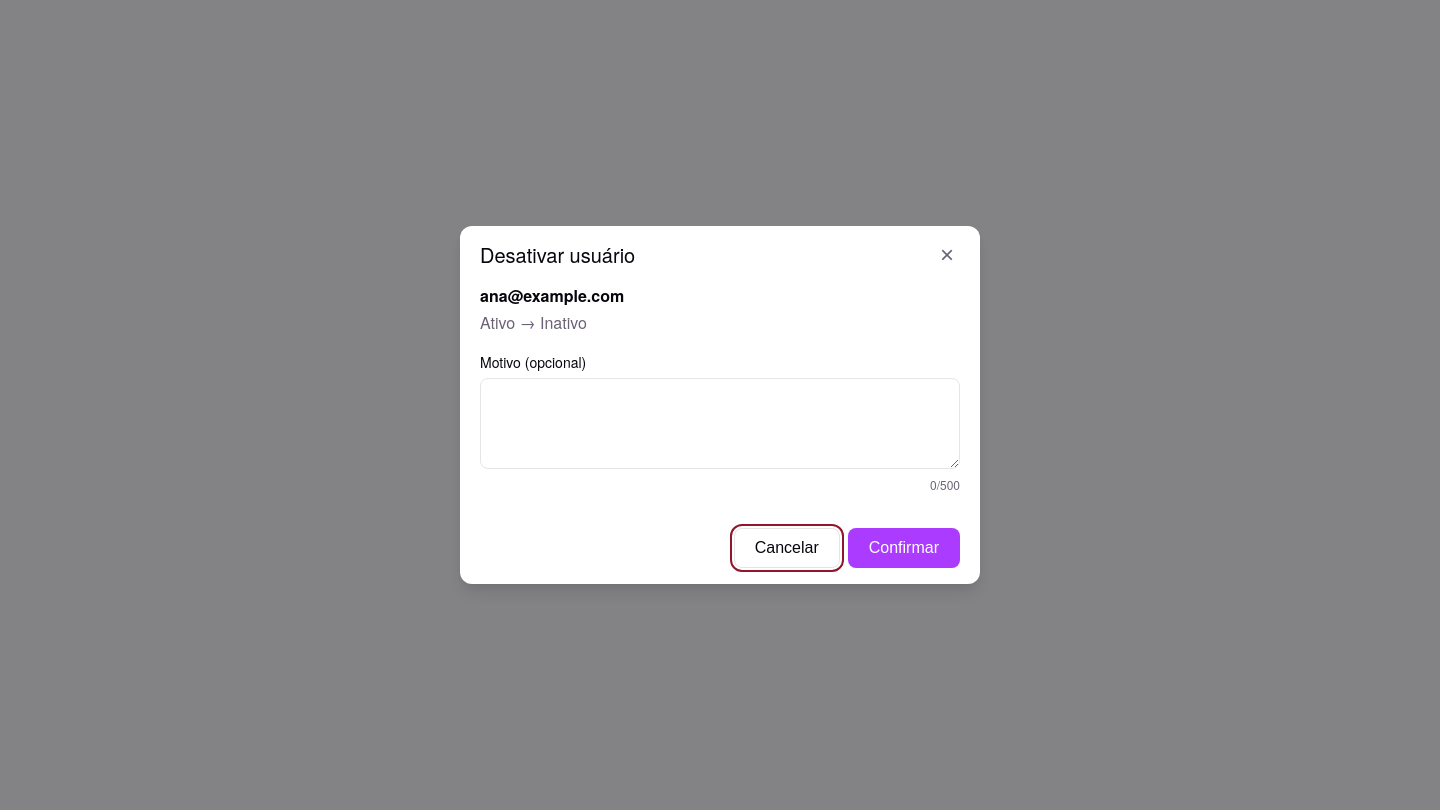
Test: ToggleActiveDialog › shows describeAdminUsersError message without action for last_superadmin
Click the button "Confirmar" at (904, 548), box [848,528,960,568]
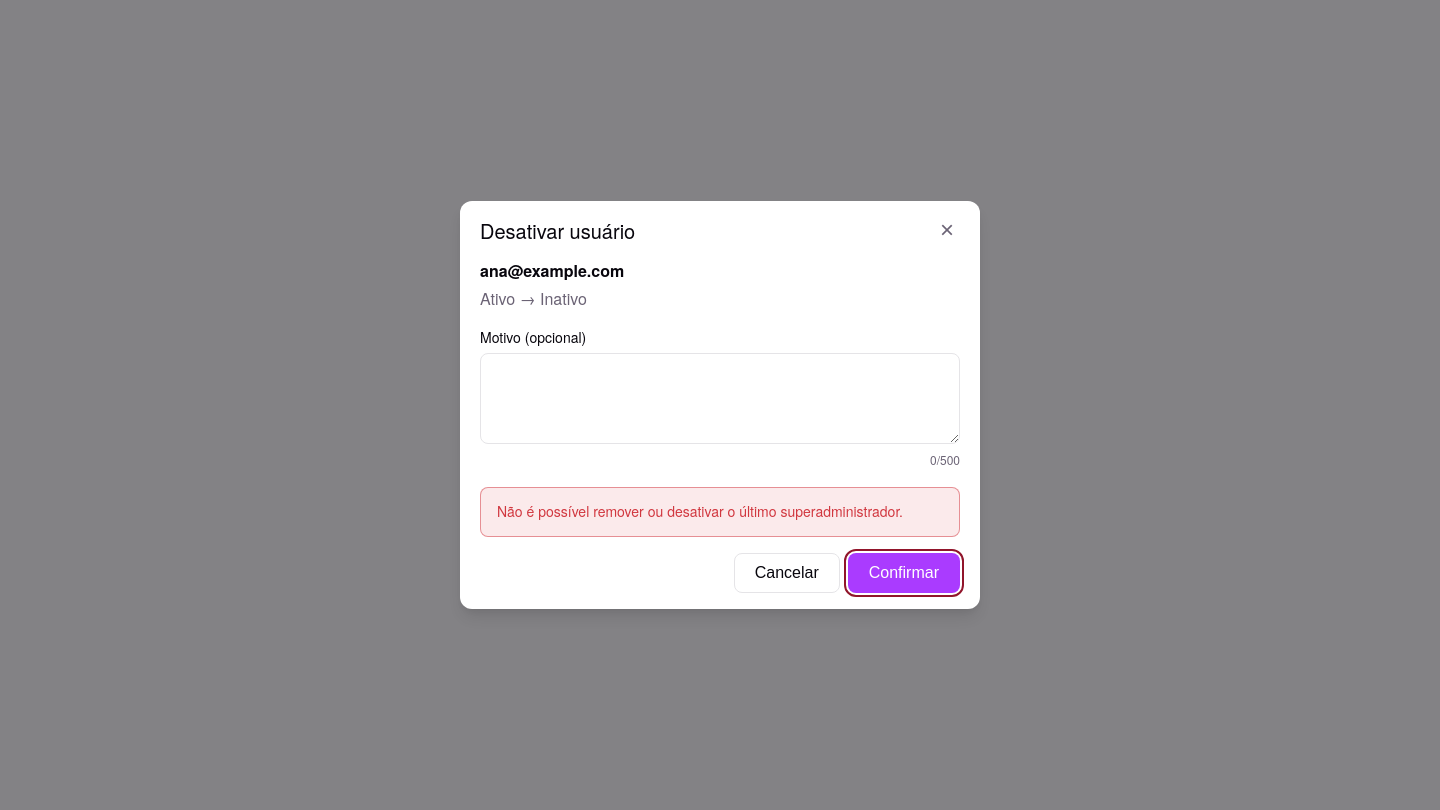
Now the text "último superadministrador" is shown, box [497,501,903,521]
